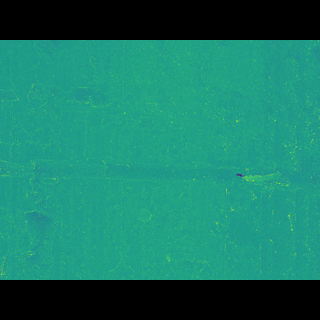Loch: (100, 69, 319, 248), (0, 91, 251, 140), (0, 155, 320, 184)
